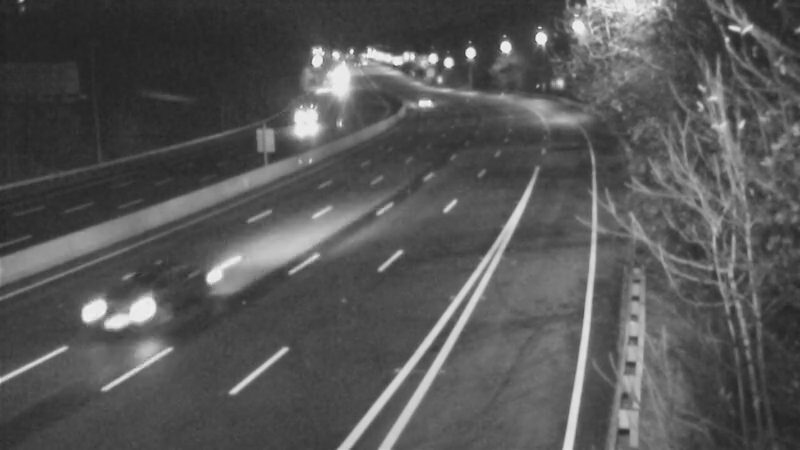vehicle: (88, 250, 198, 360), (396, 79, 446, 129), (289, 97, 339, 147), (313, 63, 363, 113)
